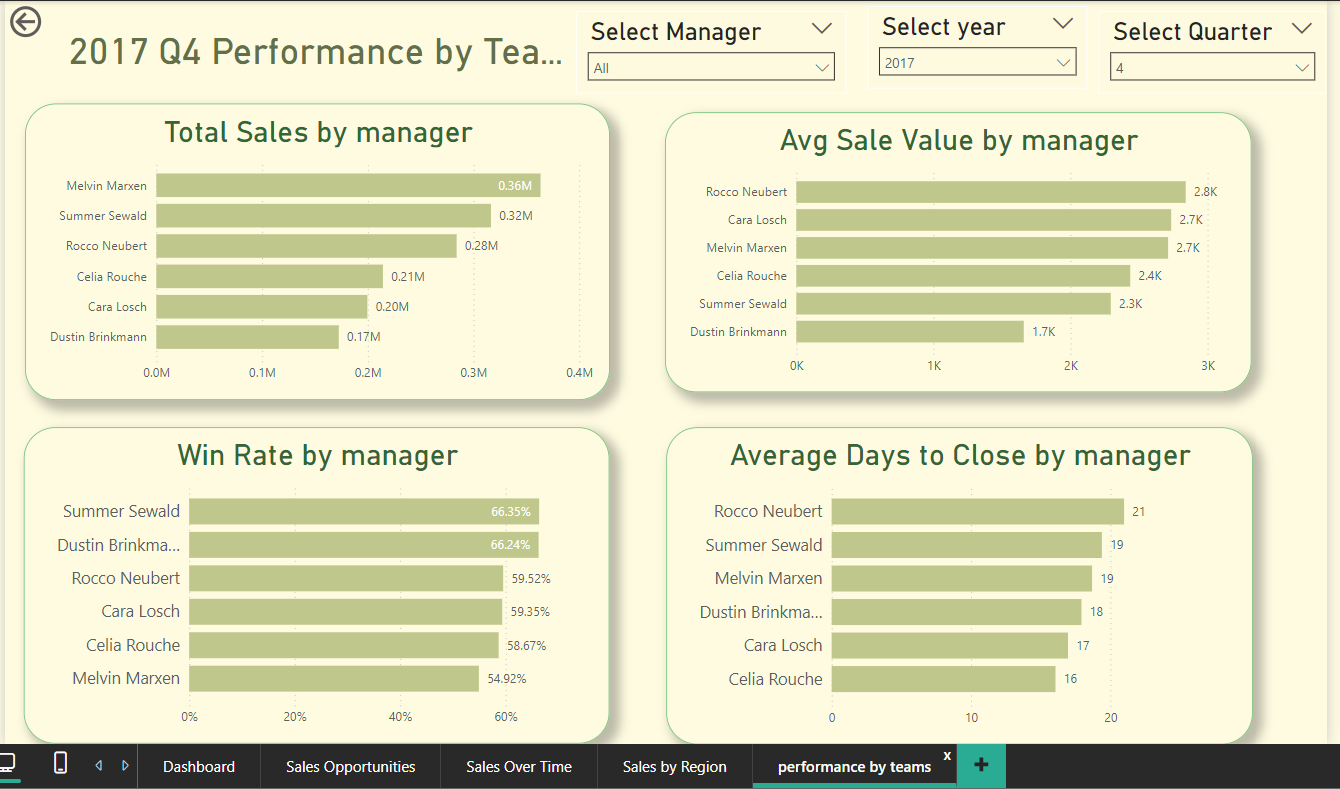

Layout of this report page (visuals, bound fields, positions):
{"tool":"powerbi","page":{"name":"performance by teams","canvas":[1280,720],"ordinal":4},"visuals":[{"type":"barChart","fields":{"Y":["measures1.Total Sales"],"Category":["sales_teams.manager"]},"box":[19.4,99.3,566.5,286.9],"z":0},{"type":"clusteredBarChart","fields":{"Y":["measures1.Average Sale Value"],"Category":["sales_teams.manager"]},"box":[639.1,107.7,567.7,271.2],"z":1000},{"type":"barChart","fields":{"Y":["measures1.Win Rate"],"Category":["sales_teams.manager"]},"box":[18,413.1,567.2,306.6],"z":2000},{"type":"barChart","fields":{"Y":["measures1.Average Days to Close"],"Category":["sales_teams.manager"]},"box":[640,413,568,307],"z":3000},{"type":"actionButton","box":[0,0,100,40],"z":4000},{"type":"card","fields":{"Values":["measures1.Welcome Teams"]},"box":[48.4,0,504.8,89.6],"z":5000},{"type":"slicer","fields":{"Values":["Calendar.Qrt"]},"box":[1059.2,9.7,220.3,79.9],"z":6000},{"type":"slicer","fields":{"Values":["Calendar.year"]},"box":[835.2,4.8,213,79.9],"z":7000},{"type":"slicer","fields":{"Values":["sales_teams.manager"]},"box":[553.2,9.7,261.5,79.9],"z":8000}]}

Visuals, with their boxes on the page's 1280x720 design canvas (x1, y1, x2, y2). These are canvas units, not pixel positions in the 1340x789 screenshot, which may show the page scaled, cropped or inside an application window:
barChart - measures1.Total Sales x sales_teams.manager: BBox(19, 99, 586, 386)
clusteredBarChart - measures1.Average Sale Value x sales_teams.manager: BBox(639, 108, 1207, 379)
barChart - measures1.Win Rate x sales_teams.manager: BBox(18, 413, 585, 720)
barChart - measures1.Average Days to Close x sales_teams.manager: BBox(640, 413, 1208, 720)
actionButton: BBox(0, 0, 100, 40)
card - measures1.Welcome Teams: BBox(48, 0, 553, 90)
slicer - Calendar.Qrt: BBox(1059, 10, 1280, 90)
slicer - Calendar.year: BBox(835, 5, 1048, 85)
slicer - sales_teams.manager: BBox(553, 10, 815, 90)
